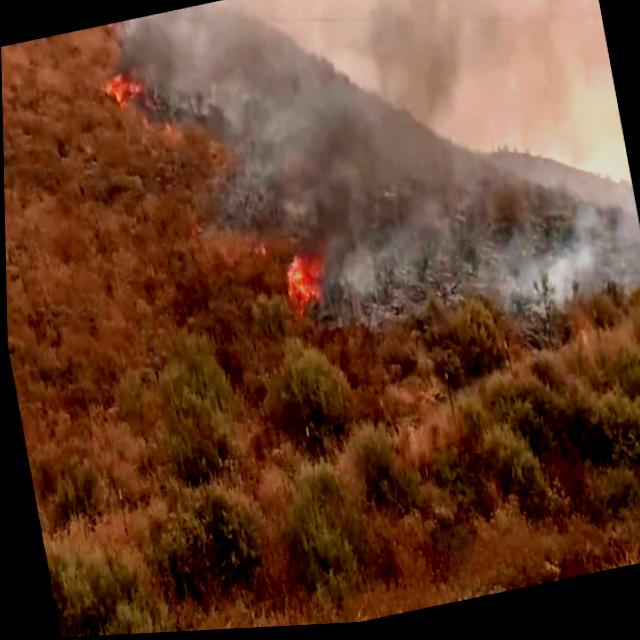fire: (271, 245, 329, 337), (98, 60, 150, 126)
smoke: (180, 0, 623, 222)
